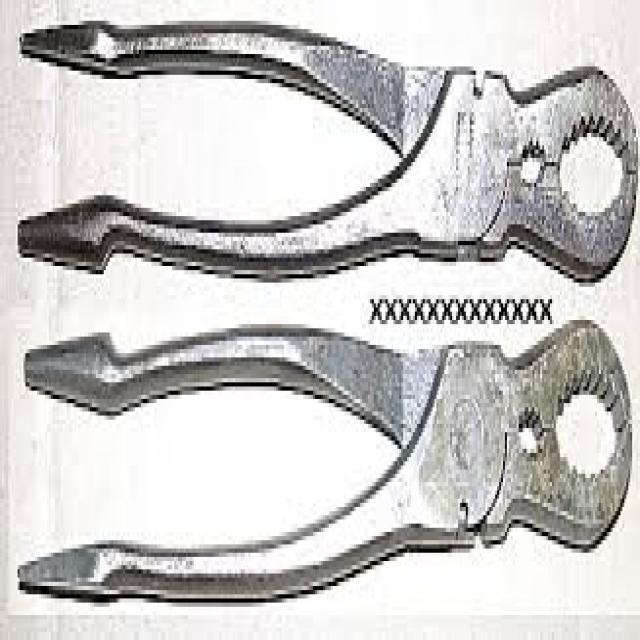pliers: (0, 0, 640, 295), (16, 324, 640, 618)
